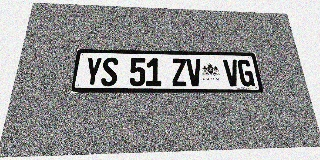1: (146, 58, 161, 86)
5: (130, 58, 146, 86)
G: (237, 60, 255, 86)
S: (101, 57, 118, 86)
V: (223, 59, 241, 86), (186, 59, 203, 86)
Y: (84, 57, 102, 86)
Z: (171, 58, 187, 86)
